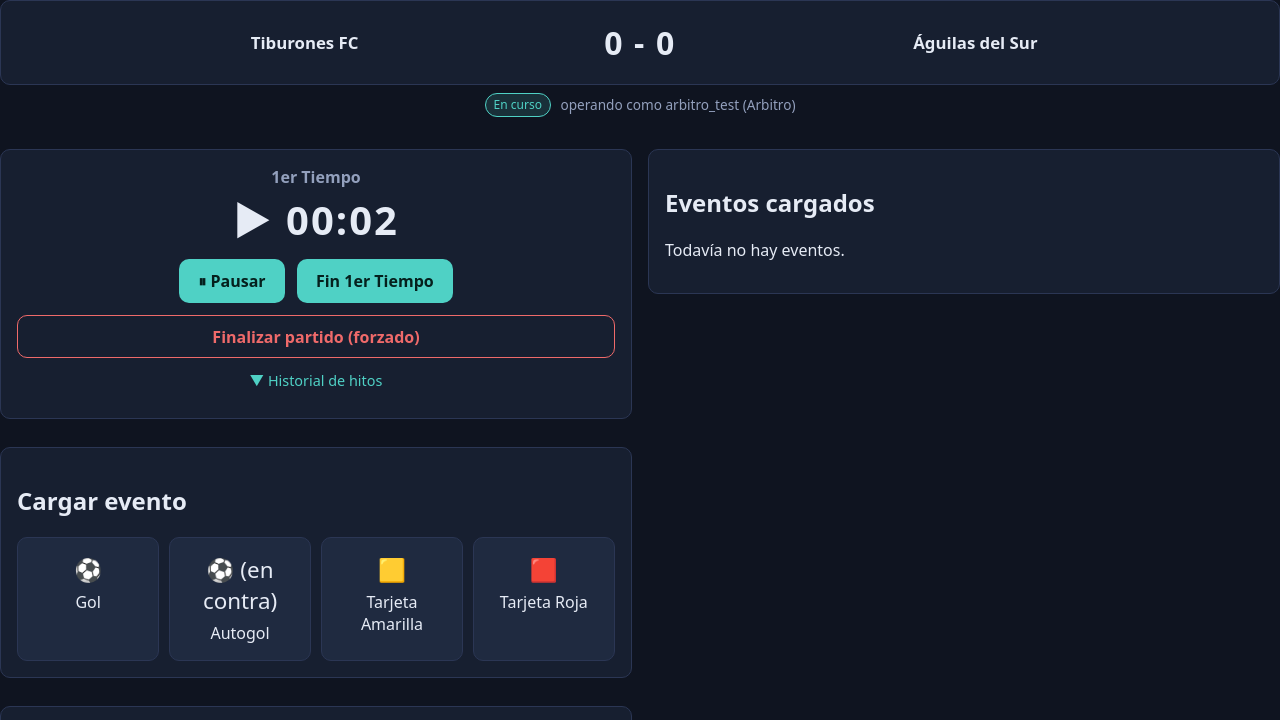
Scenario: MesaPanel — offline-first (3B-1, docs/plans/cierre-backlog-todos-plan.md) › 'Descartar' saca el evento pendiente sin enviarlo
Expected: the heading "Cargar evento" is shown, [17,484,187,517]
Click the button "⚽ Gol". click: (88, 599)
box: [17,537,159,661]
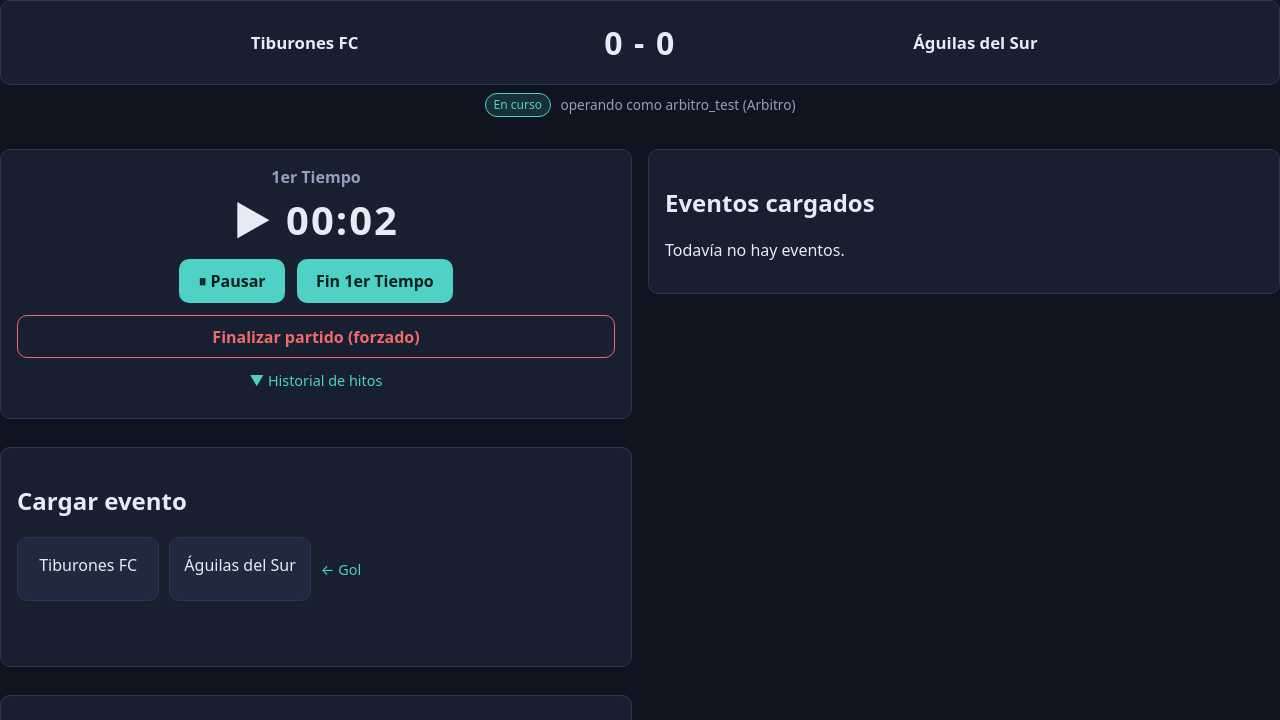
Click the button "Tiburones FC". click: (88, 569)
box: [17,537,159,601]
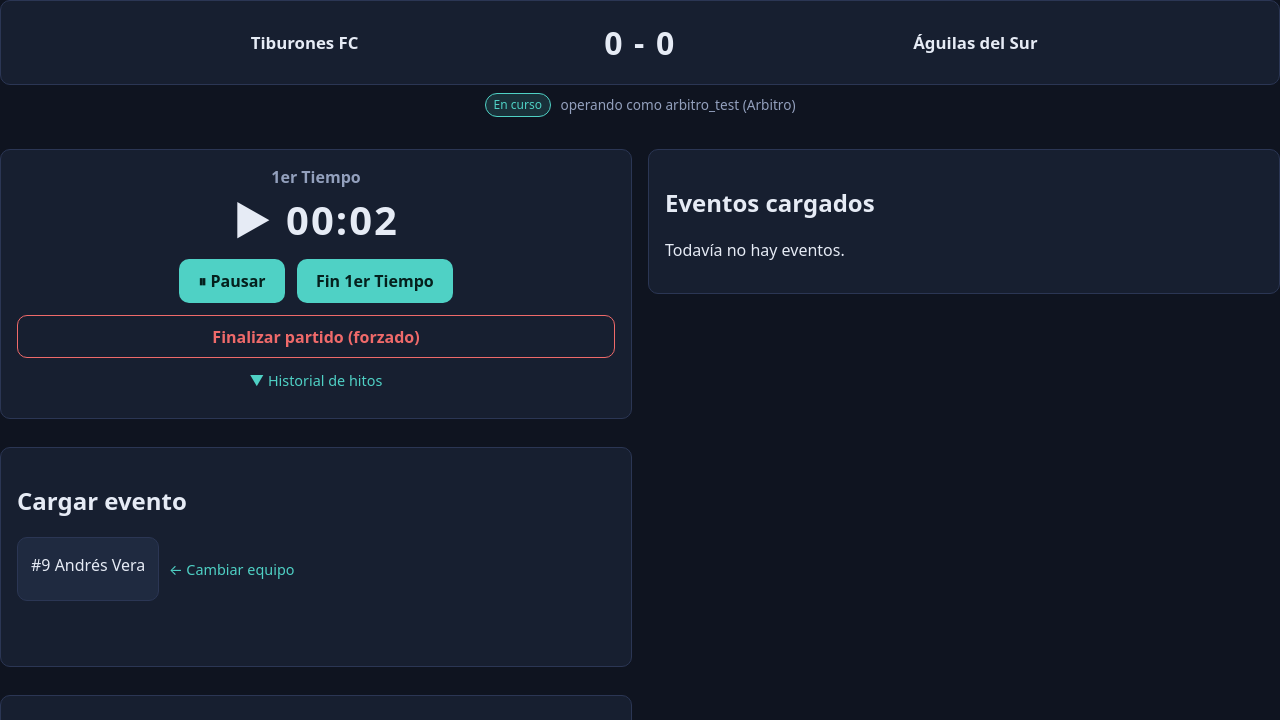
Click the button "#9 Andrés Vera". click: (88, 569)
box: [17,537,159,601]
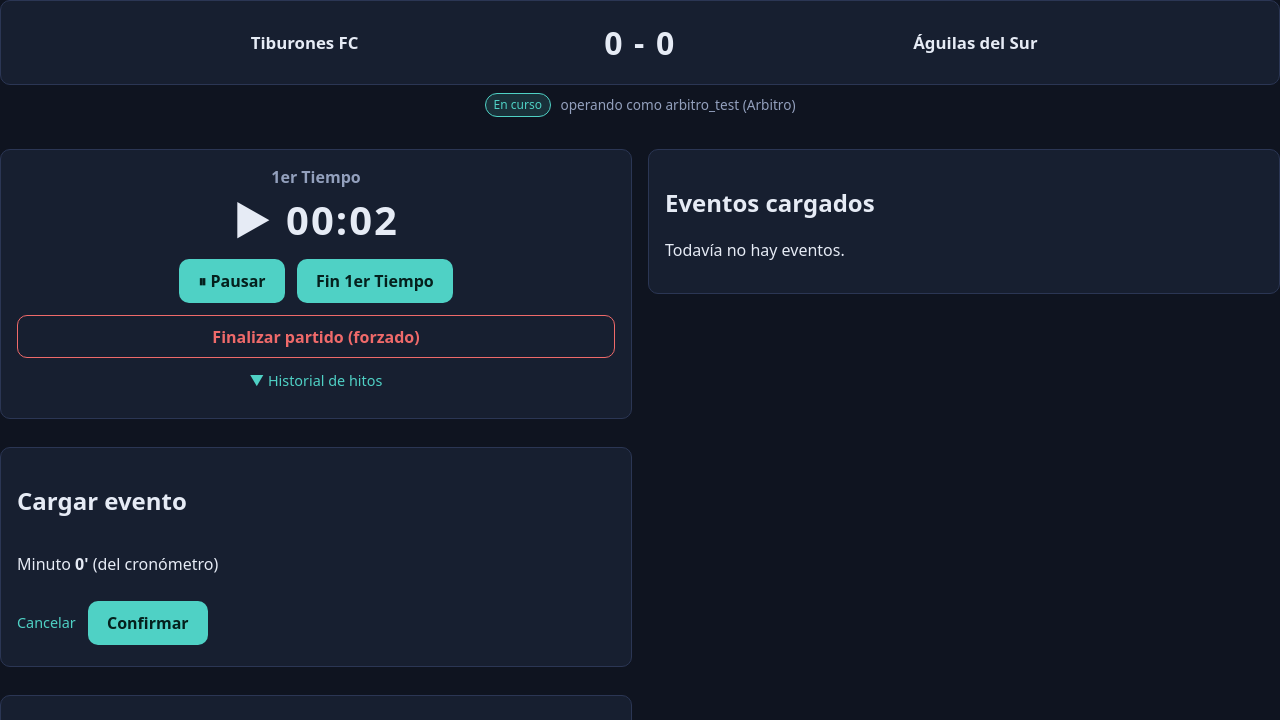
Expected: the button "Confirmar" is enabled
Click the button "Confirmar". click: (148, 623)
box: [88,601,208,645]
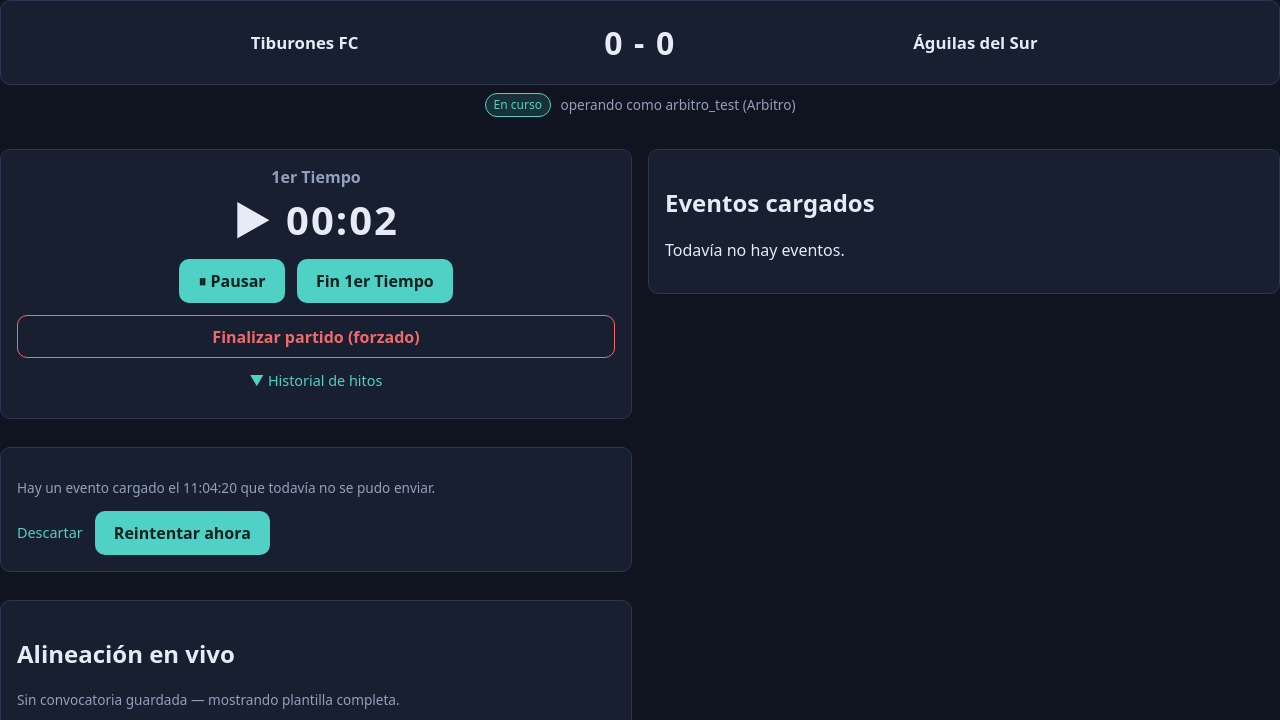
Expected: the text "todavía no se pudo enviar" is shown, [237,478,431,497]
Click the button "Descartar". click: (50, 533)
box: [17,511,83,555]
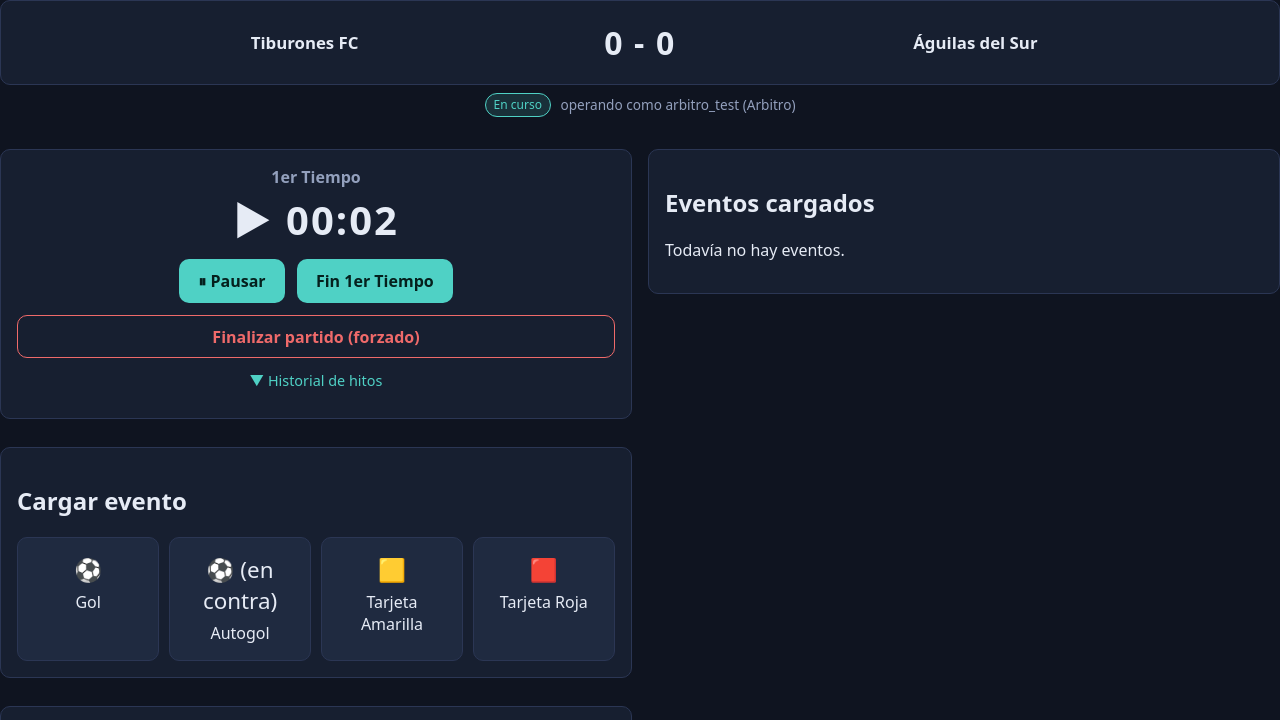
Expected: the heading "Cargar evento" is shown, [17,484,187,517]
